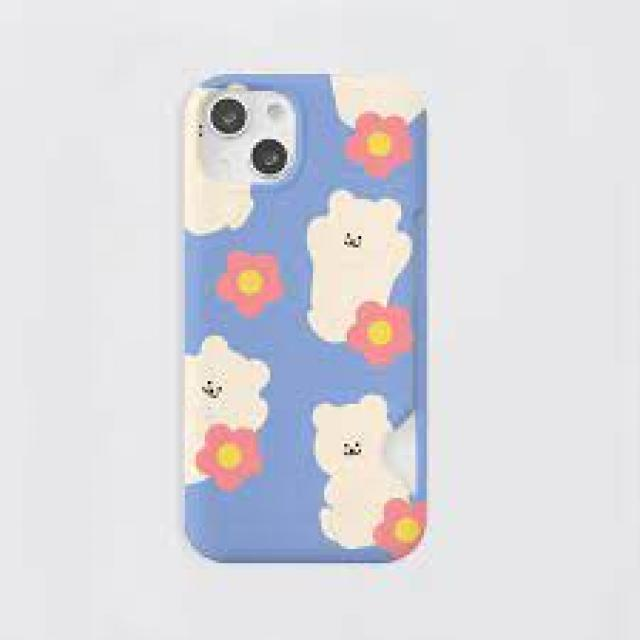phone: (180, 65, 433, 562)
